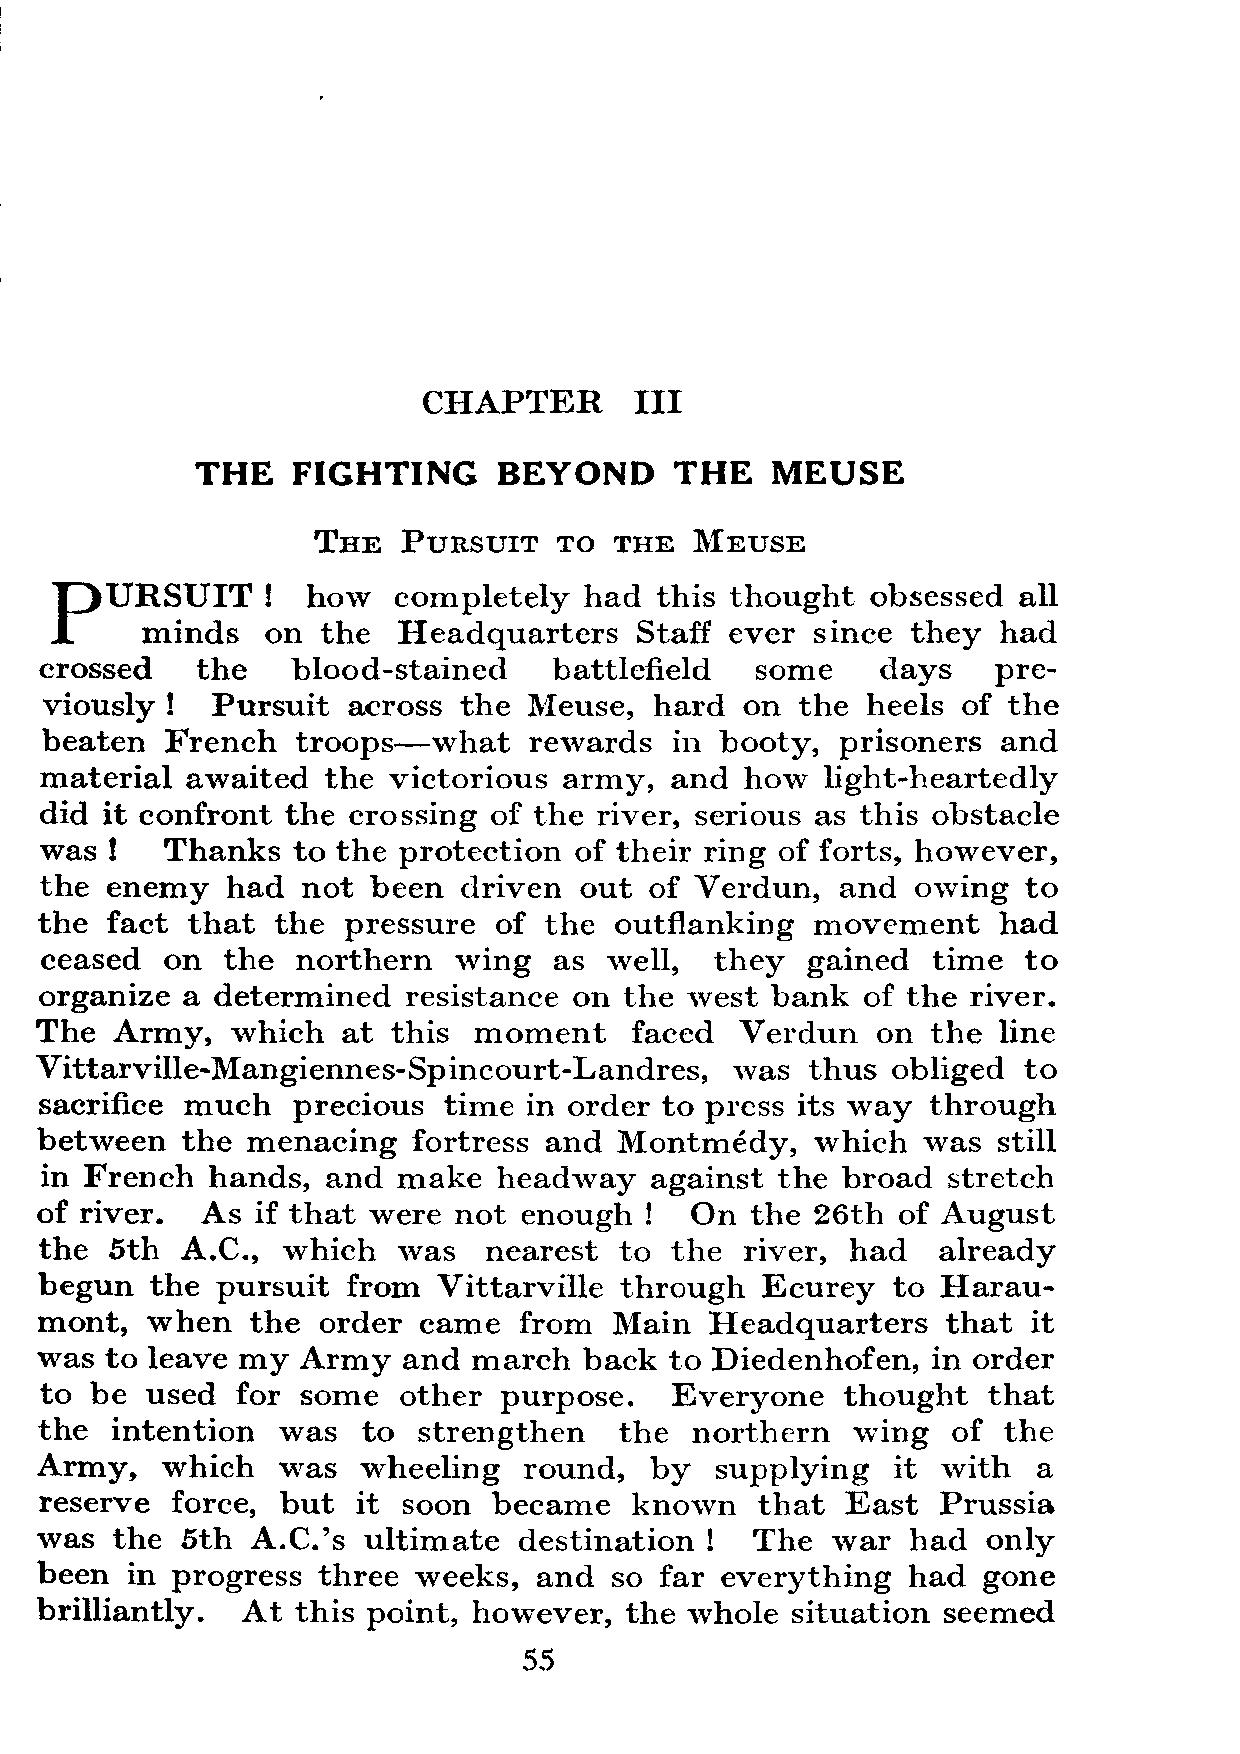chapter: (195, 385, 905, 488), (309, 526, 807, 556)
content: (34, 578, 1062, 1632)
content_pagenumber: (518, 1644, 556, 1675)
